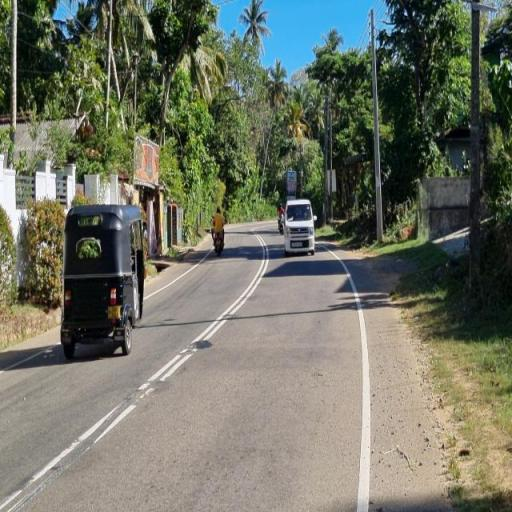double_white_line: (141, 233, 269, 400)
